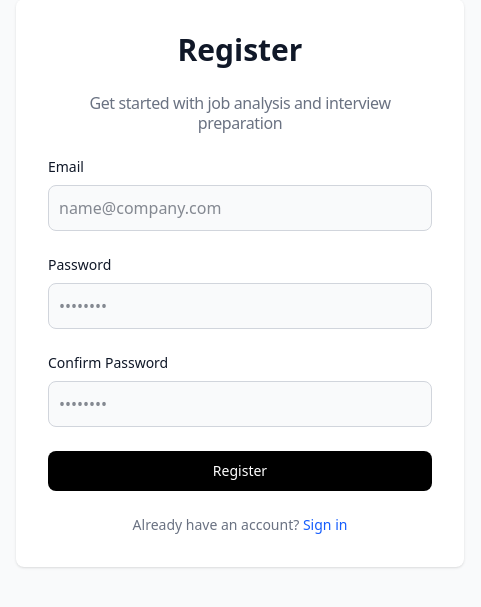
Test: shows error on duplicate email
The width and height of the screenshot is (481, 607).
Type "user@example.com" into the field labelled "Email" at (240, 208), box [48,185,432,231]
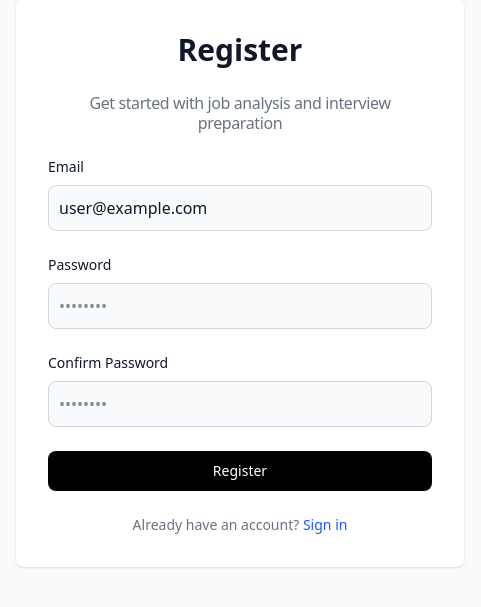
Type "secret" into the password field labelled "Password" at (240, 306), box [48,283,432,329]
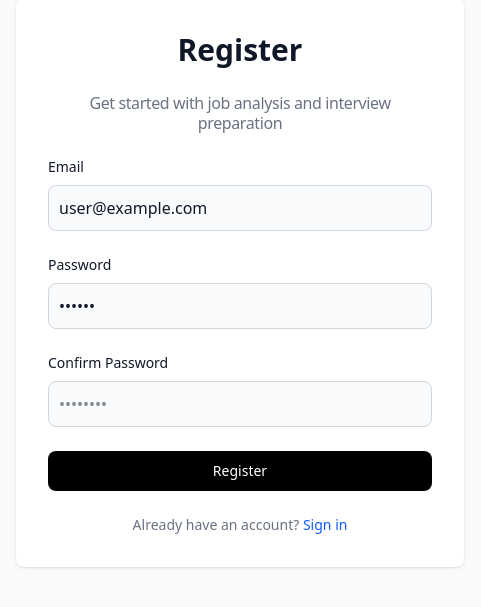
Type "secret" into the password field labelled "Confirm Password" at (240, 404), box [48,381,432,427]
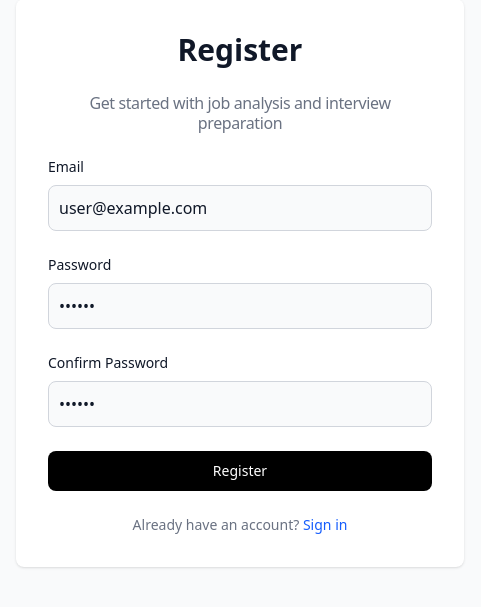
Click the button "Register" at (240, 471), box [48,451,432,491]
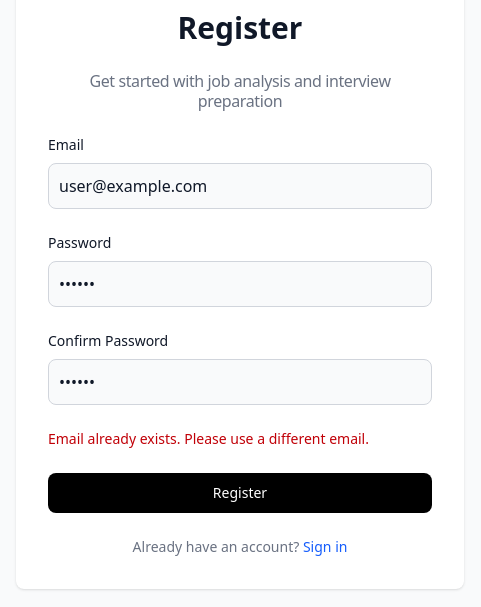
Expected: the text "Email already exists. Please use a different email." is shown, [48,429,369,448]
